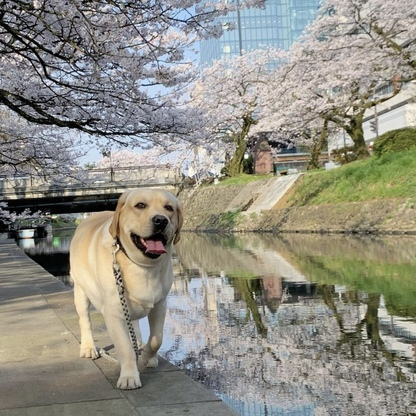labrado: (64, 186, 187, 394)
